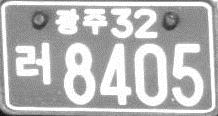0: (132, 41, 168, 106)
2: (134, 7, 159, 40)
3: (109, 7, 133, 39)
4: (98, 40, 132, 106)
5: (171, 42, 205, 108)
8: (62, 42, 96, 106)
광주_O: (54, 8, 108, 37)
러: (13, 41, 52, 86)
